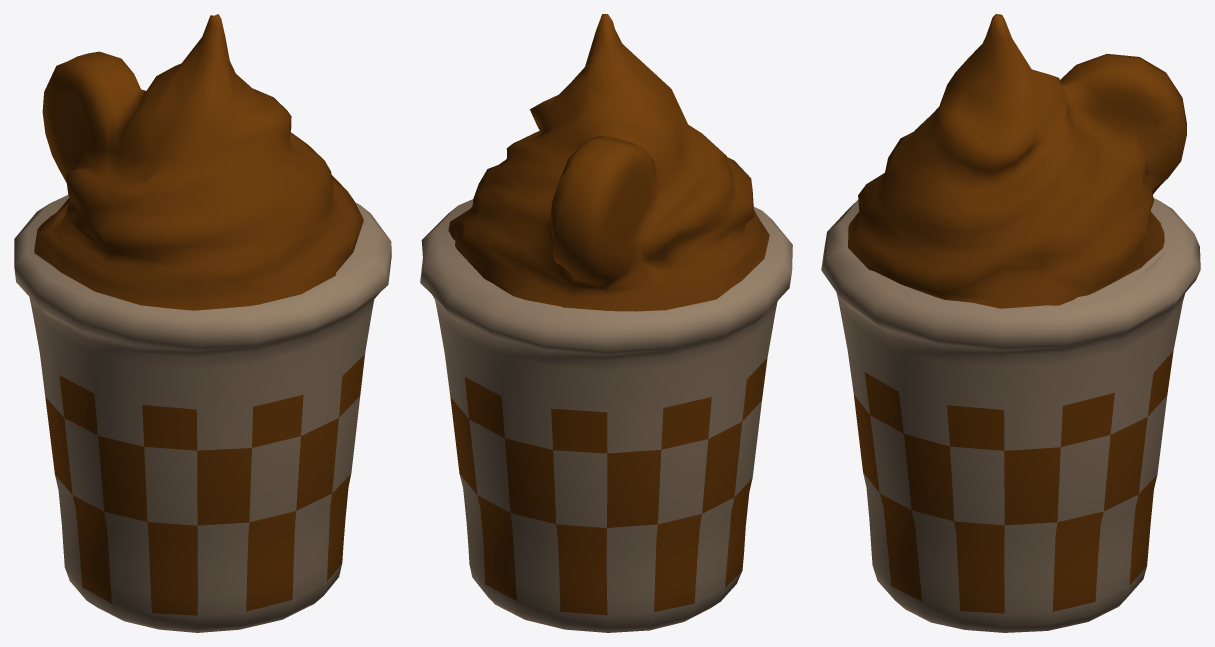
Rendered from IceCream_0001_0008.fbx.
3 renders of one model, left to right at view 1: azimuth 30°, elevation 25°; view 2: azimuth 150°, elevation 25°; view 3: azimuth 270°, elevation 25°, orthographic.
Visible parts, largest first — view 1: Ice_0001_0008; view 2: Ice_0001_0008; view 3: Ice_0001_0008.
Part boxes in pixels (x1=…): Ice_0001_0008: x1=14, y1=14, x2=391, y2=632; Ice_0001_0008: x1=420, y1=14, x2=792, y2=632; Ice_0001_0008: x1=821, y1=14, x2=1200, y2=632.
Size of the model in its own units: 0.0816 by 0.1357 by 0.0813.
1 material, 1 textured.
